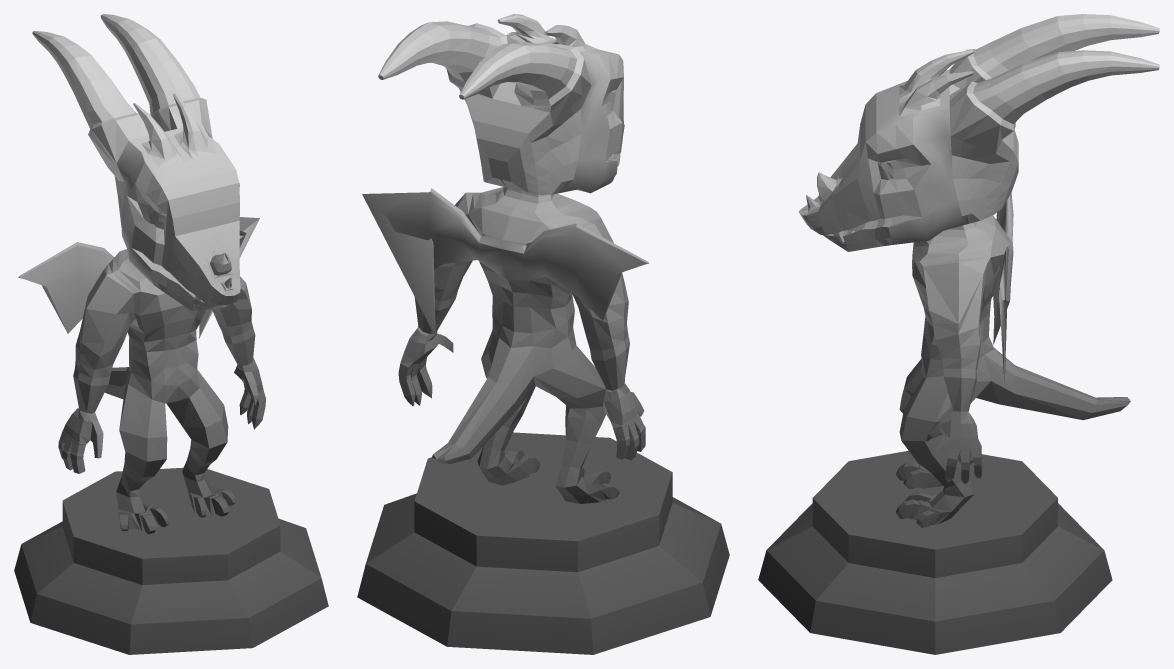
The model's file is DragonStatue.FBX.
3 renders of one model, left to right at view 1: azimuth 30°, elevation 25°; view 2: azimuth 150°, elevation 25°; view 3: azimuth 270°, elevation 25°, orthographic. The views are drawn at different scales.
Parts seen in each view (by area): view 1: Cylinder061; view 2: Cylinder061; view 3: Cylinder061.
Part boxes in pixels (x1,y1,x2,y2): Cylinder061: (14,14,328,654); Cylinder061: (357,14,729,654); Cylinder061: (758,14,1159,654).
Bounding box in the file's own units: 27.1 × 46.01 × 30.71.
